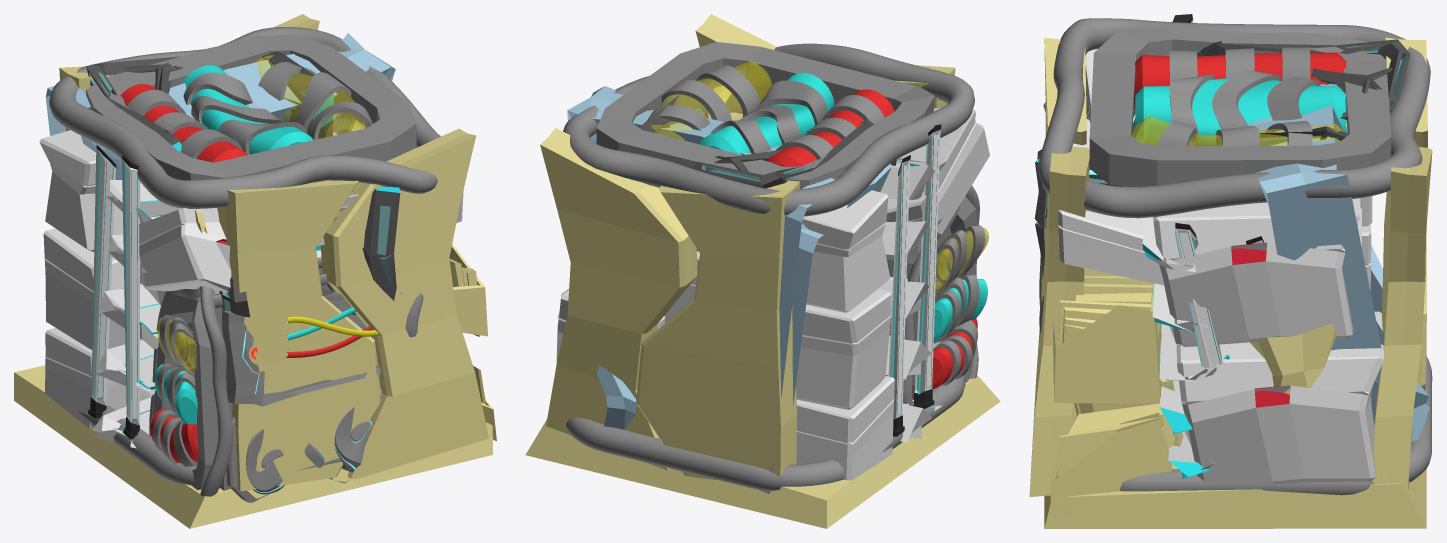
Rendered from trashbox_3.fbx.
3 renders of one model, left to right at view 1: azimuth 30°, elevation 25°; view 2: azimuth 150°, elevation 25°; view 3: azimuth 270°, elevation 25°, orthographic. The views are drawn at different scales.
Visible parts, largest first — view 1: Cube.020; view 2: Cube.020; view 3: Cube.020.
Boxes of the visible parts, x1,y1,x2,y2 form: Cube.020: (14,14,496,528); Cube.020: (525,14,1000,528); Cube.020: (1029,14,1432,528).
Bounding box in the file's own units: 272 × 275 × 268.
